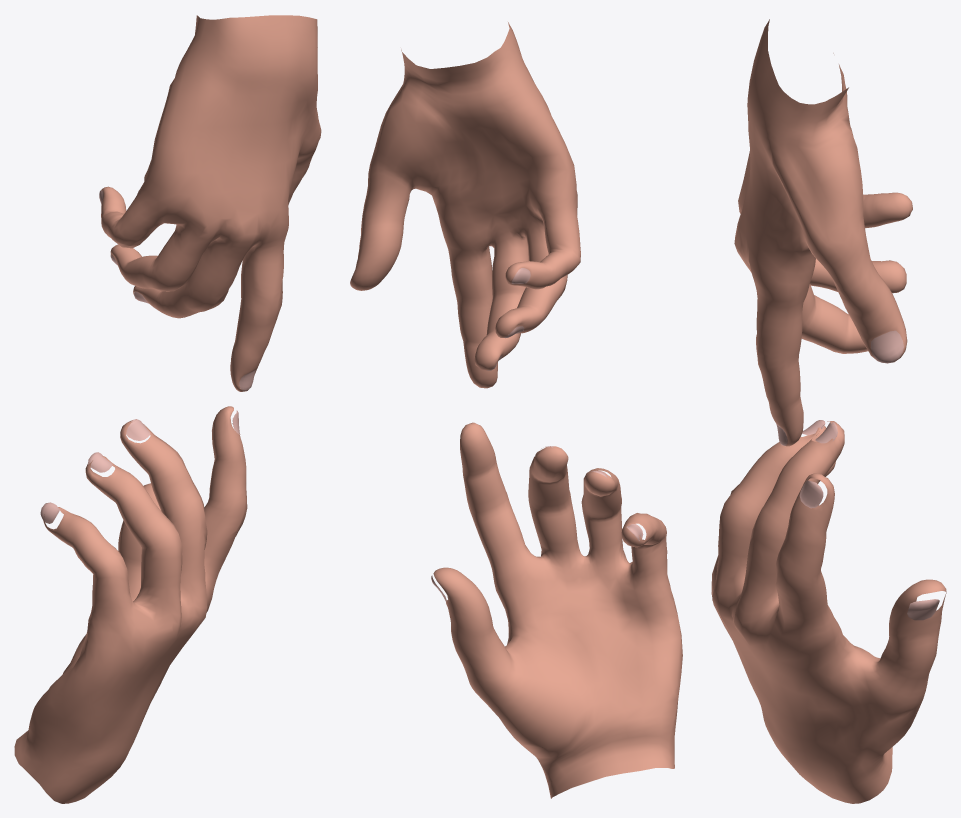
Rendered from hands.glb.
The picture shows the model from 3 angles, left to right: view 1: azimuth 30°, elevation 25°; view 2: azimuth 150°, elevation 25°; view 3: azimuth 270°, elevation 25°; orthographic projection. The views are drawn at different scales.
Visible parts, largest first — view 1: Other hand_1, export_0; view 2: export_0, Other hand_1; view 3: export_0, Other hand_1.
Boxes of the visible parts, x1,y1,x2,y2 form: Other hand_1: [99, 15, 321, 391]; export_0: [14, 406, 247, 803]; export_0: [431, 422, 682, 798]; Other hand_1: [350, 22, 580, 388]; export_0: [711, 420, 946, 803]; Other hand_1: [734, 19, 912, 446].
Size of the model in its own units: 0.6049 by 1.45 by 0.3654.
